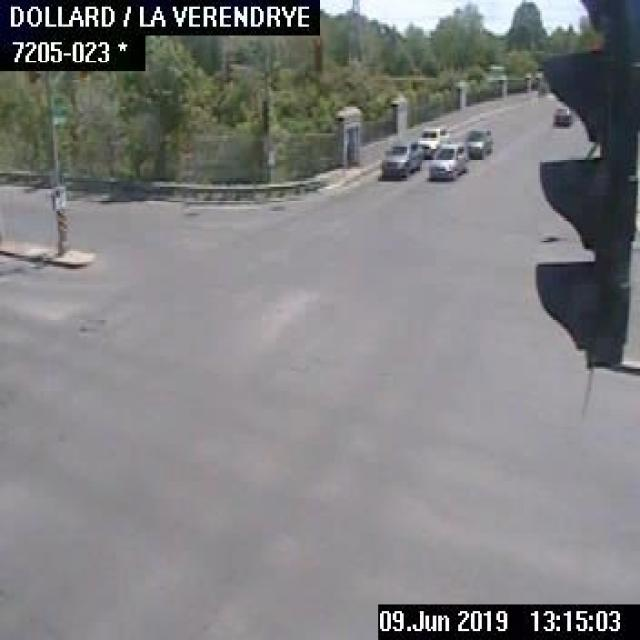vehicle: (377, 141, 422, 182), (425, 142, 466, 181), (463, 125, 493, 158), (418, 124, 450, 145), (549, 100, 575, 124)
